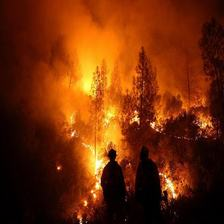fire: (34, 28, 200, 207)
